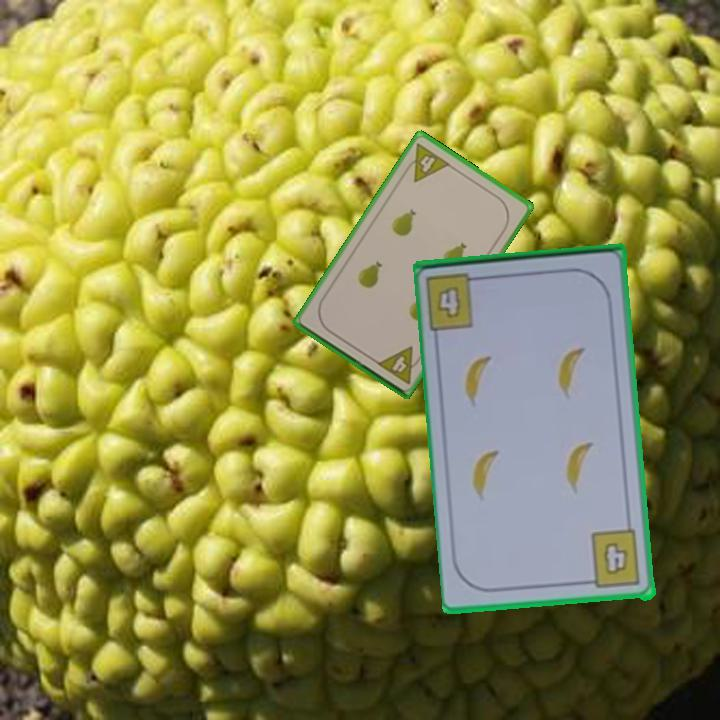4b: (581, 527, 644, 592), (434, 286, 465, 322)
4p: (399, 139, 453, 185), (373, 343, 426, 387)
